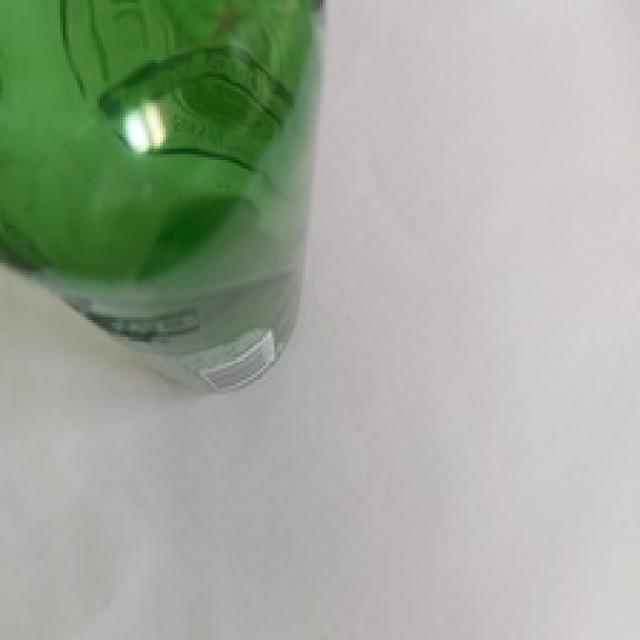Glass: (0, 0, 326, 397)
